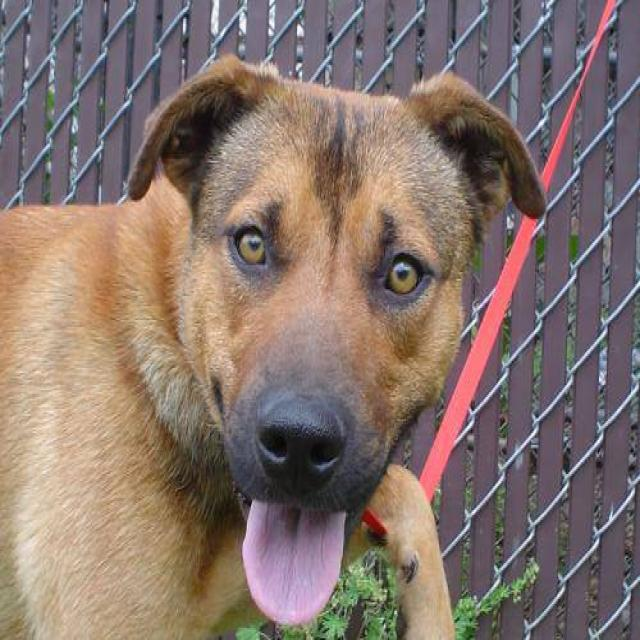dog: (0, 51, 547, 638)
